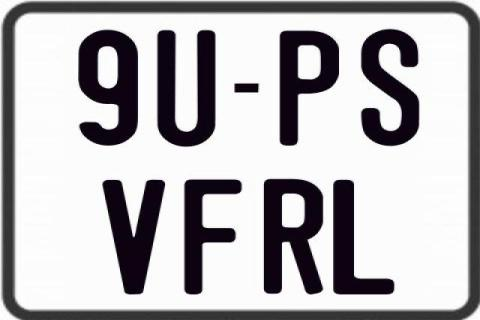0: (77, 28, 143, 145)
F: (183, 178, 245, 294)
L: (330, 177, 395, 297)
P: (277, 30, 339, 146)
R: (264, 179, 323, 297)
S: (361, 28, 420, 146)
U: (157, 30, 216, 150)
V: (101, 178, 164, 292)
